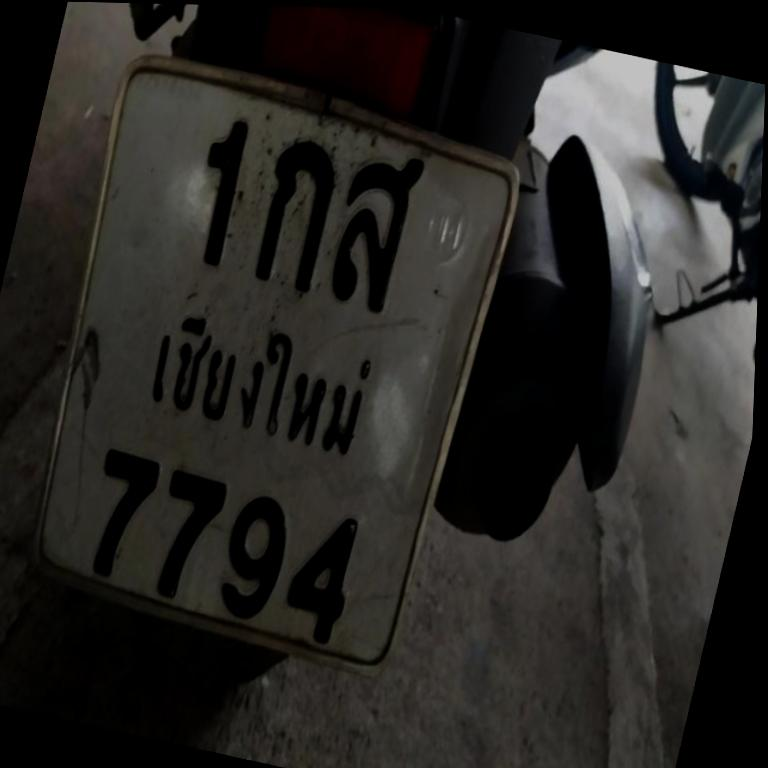license plate: (0, 30, 533, 686)
